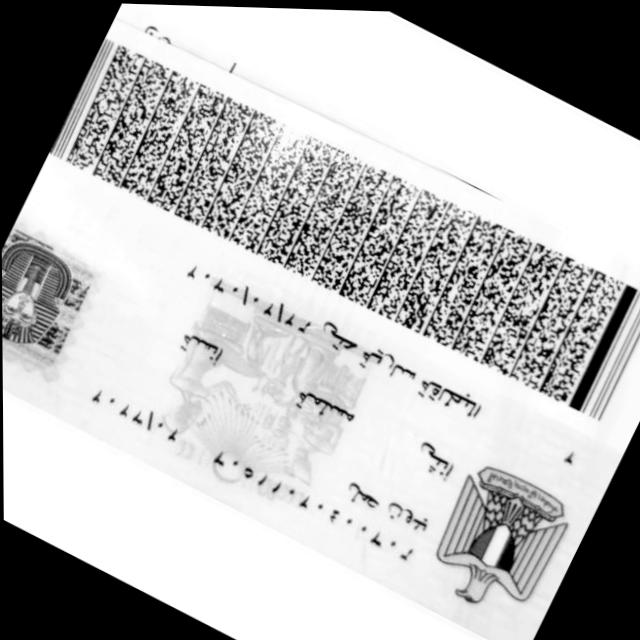back: (2, 18, 640, 640)
